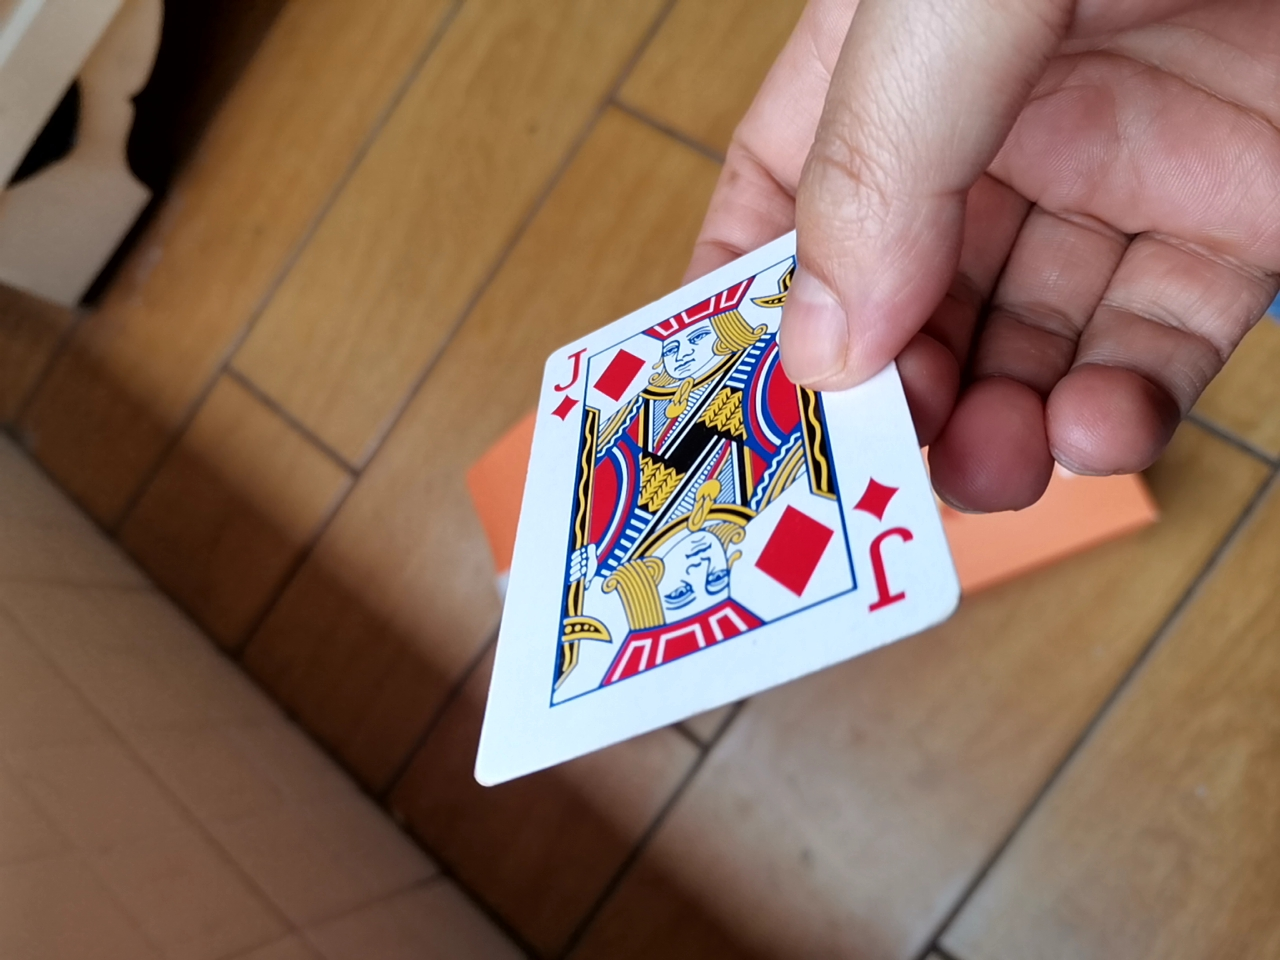fk j: (470, 222, 967, 781)
